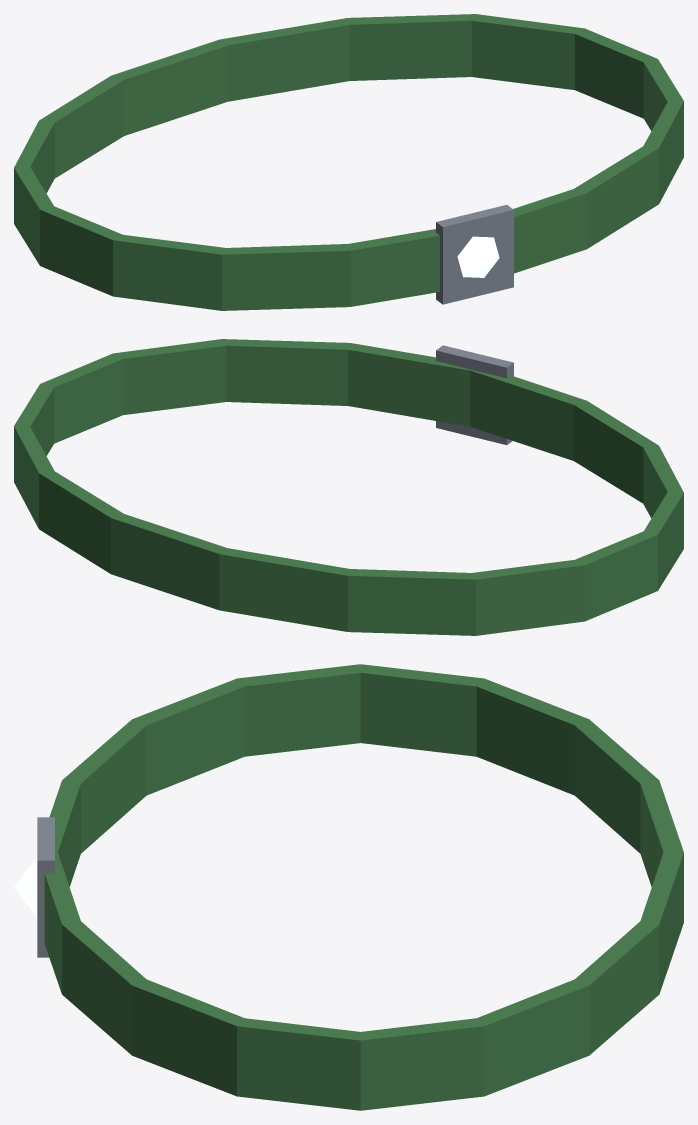
Rendered from armor_guard_head_uncommon_orc.glb.
3 views of the same model, one above another, from view 1: azimuth 30°, elevation 25°; view 2: azimuth 150°, elevation 25°; view 3: azimuth 270°, elevation 25° (orthographic). The views are drawn at different scales.
Visible parts, largest first — view 1: armor_guard_head_uncommon_orc__head; view 2: armor_guard_head_uncommon_orc__head; view 3: armor_guard_head_uncommon_orc__head.
Boxes of the visible parts, box(x1,y1,x2,y2) form: armor_guard_head_uncommon_orc__head: box(14, 14, 683, 310); armor_guard_head_uncommon_orc__head: box(14, 339, 683, 635); armor_guard_head_uncommon_orc__head: box(14, 664, 683, 1110).
Bounding box in the file's own units: 60.89 × 7.3 × 45.81.
